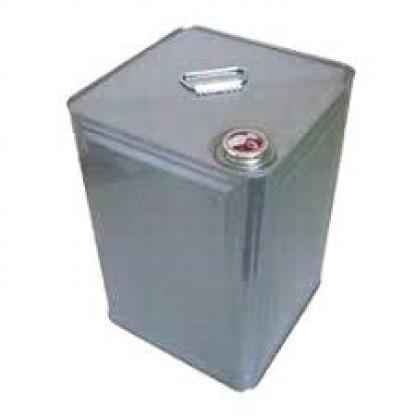METAL: (65, 22, 353, 388)
